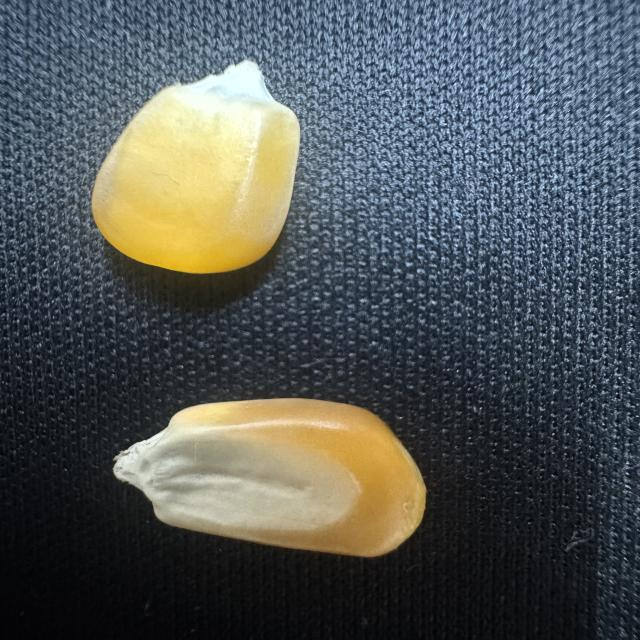Good-Seed: (98, 386, 434, 572), (79, 55, 309, 282)
